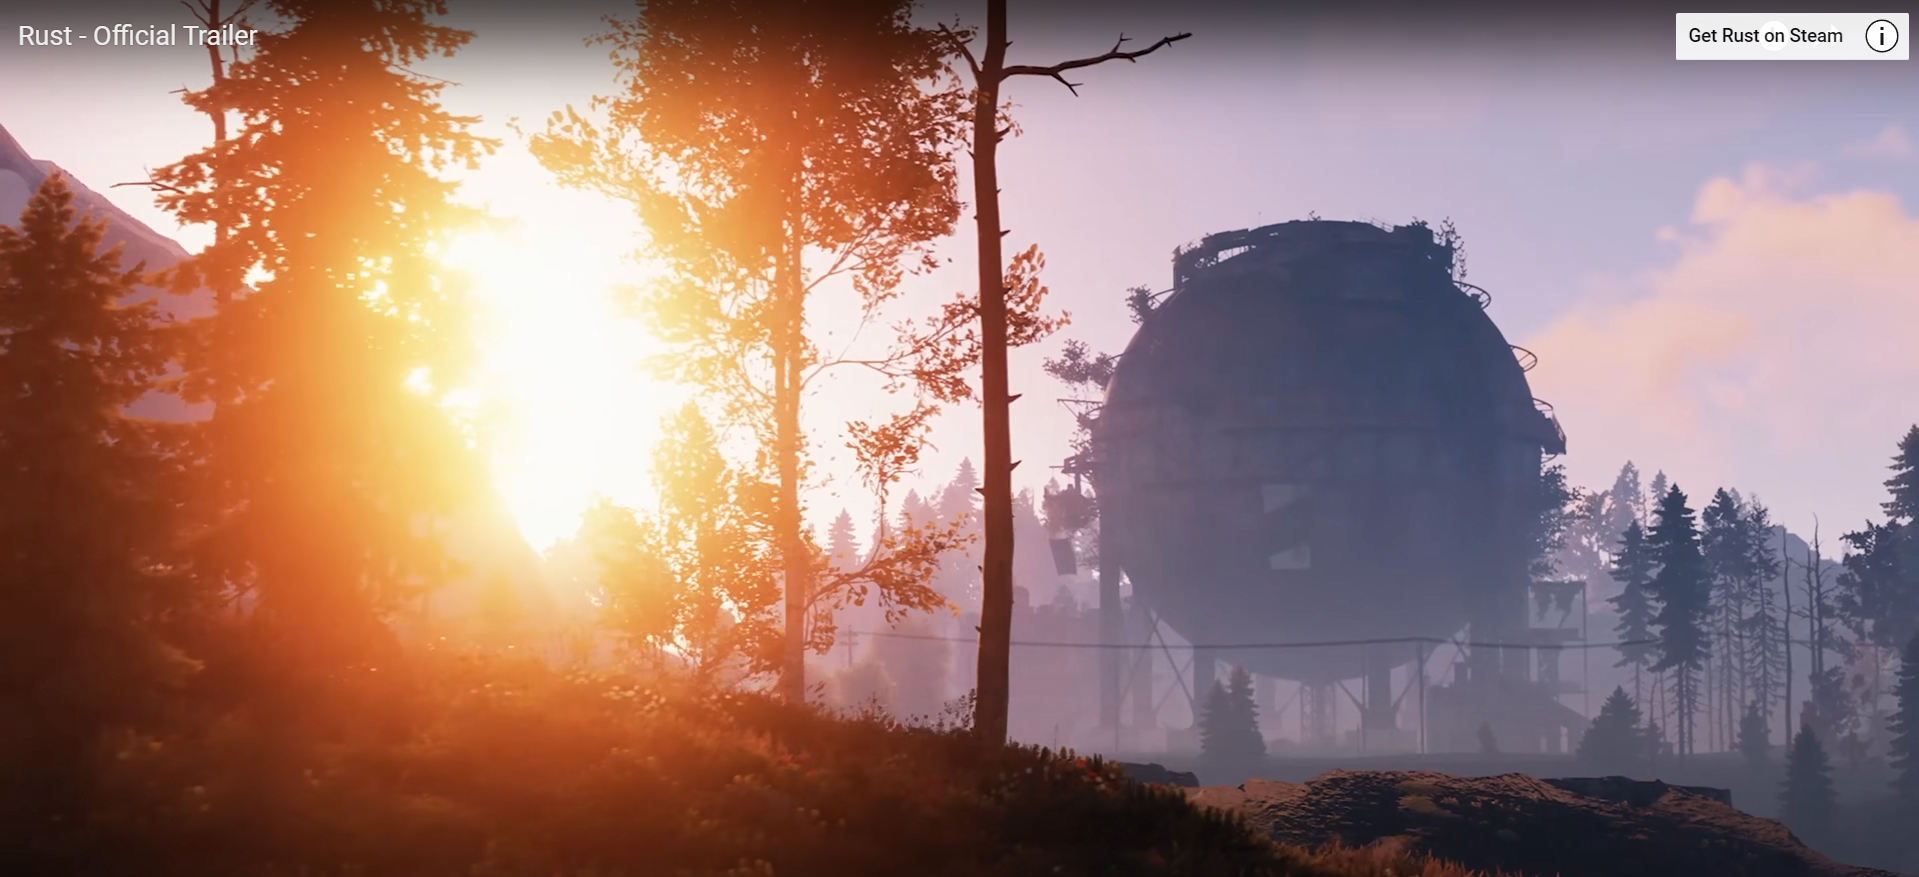tree: (274, 1, 464, 625), (1, 175, 166, 656), (765, 11, 862, 744), (173, 10, 297, 495), (971, 2, 1035, 762), (1842, 427, 1919, 751), (1686, 533, 1755, 760), (1735, 501, 1795, 742), (1646, 520, 1704, 767), (1604, 520, 1660, 758), (1792, 525, 1838, 760)
